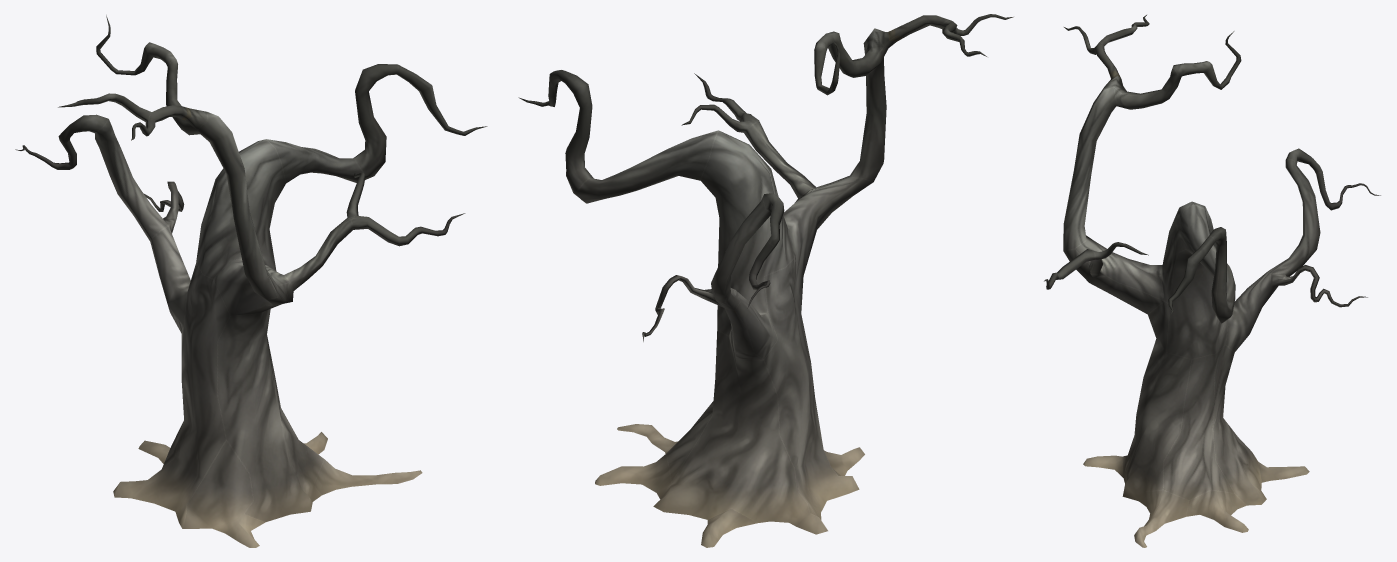
File: Tree_6.FBX
The picture shows the model from 3 angles, left to right: view 1: azimuth 30°, elevation 25°; view 2: azimuth 150°, elevation 25°; view 3: azimuth 270°, elevation 25°; orthographic projection. The views are drawn at different scales.
Parts seen in each view (by area): view 1: Tree_6; view 2: Tree_6; view 3: Tree_6.
Boxes of the visible parts, x1,y1,x2,y2 form: Tree_6: (15,15,487,547); Tree_6: (518,14,1013,547); Tree_6: (1044,15,1380,547).
Size of the model in its own units: 1510 by 1561 by 1173.
